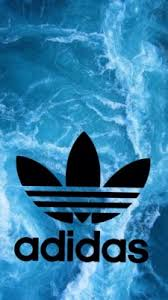adidas: (12, 131, 149, 263)
